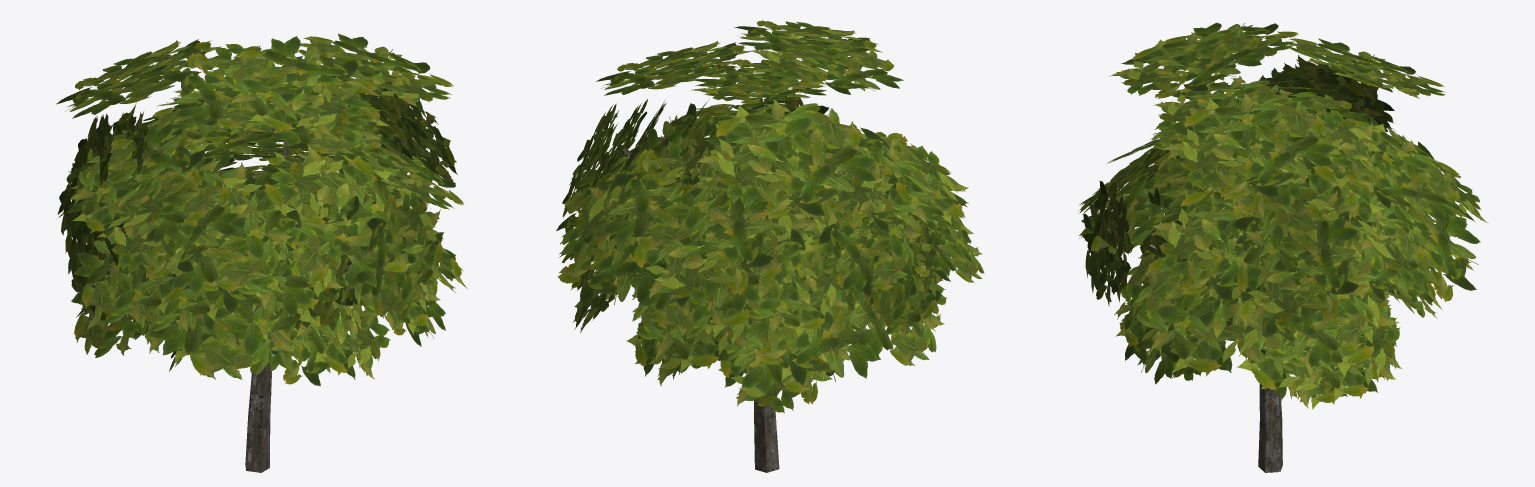
Rendered from tree_a.glb.
The picture shows the model from 3 angles, left to right: view 1: azimuth 30°, elevation 25°; view 2: azimuth 150°, elevation 25°; view 3: azimuth 270°, elevation 25°; orthographic projection. The views are drawn at different scales.
Visible parts, largest first — view 1: tree_a; view 2: tree_a; view 3: tree_a.
Boxes of the visible parts, <box> form: tree_a: <box>56,33,467,472</box>; tree_a: <box>556,20,984,472</box>; tree_a: <box>1079,22,1488,472</box>.
Size of the model in its own units: 8.88 by 8.65 by 8.77.
Materials: 2 (2 with a texture image).
